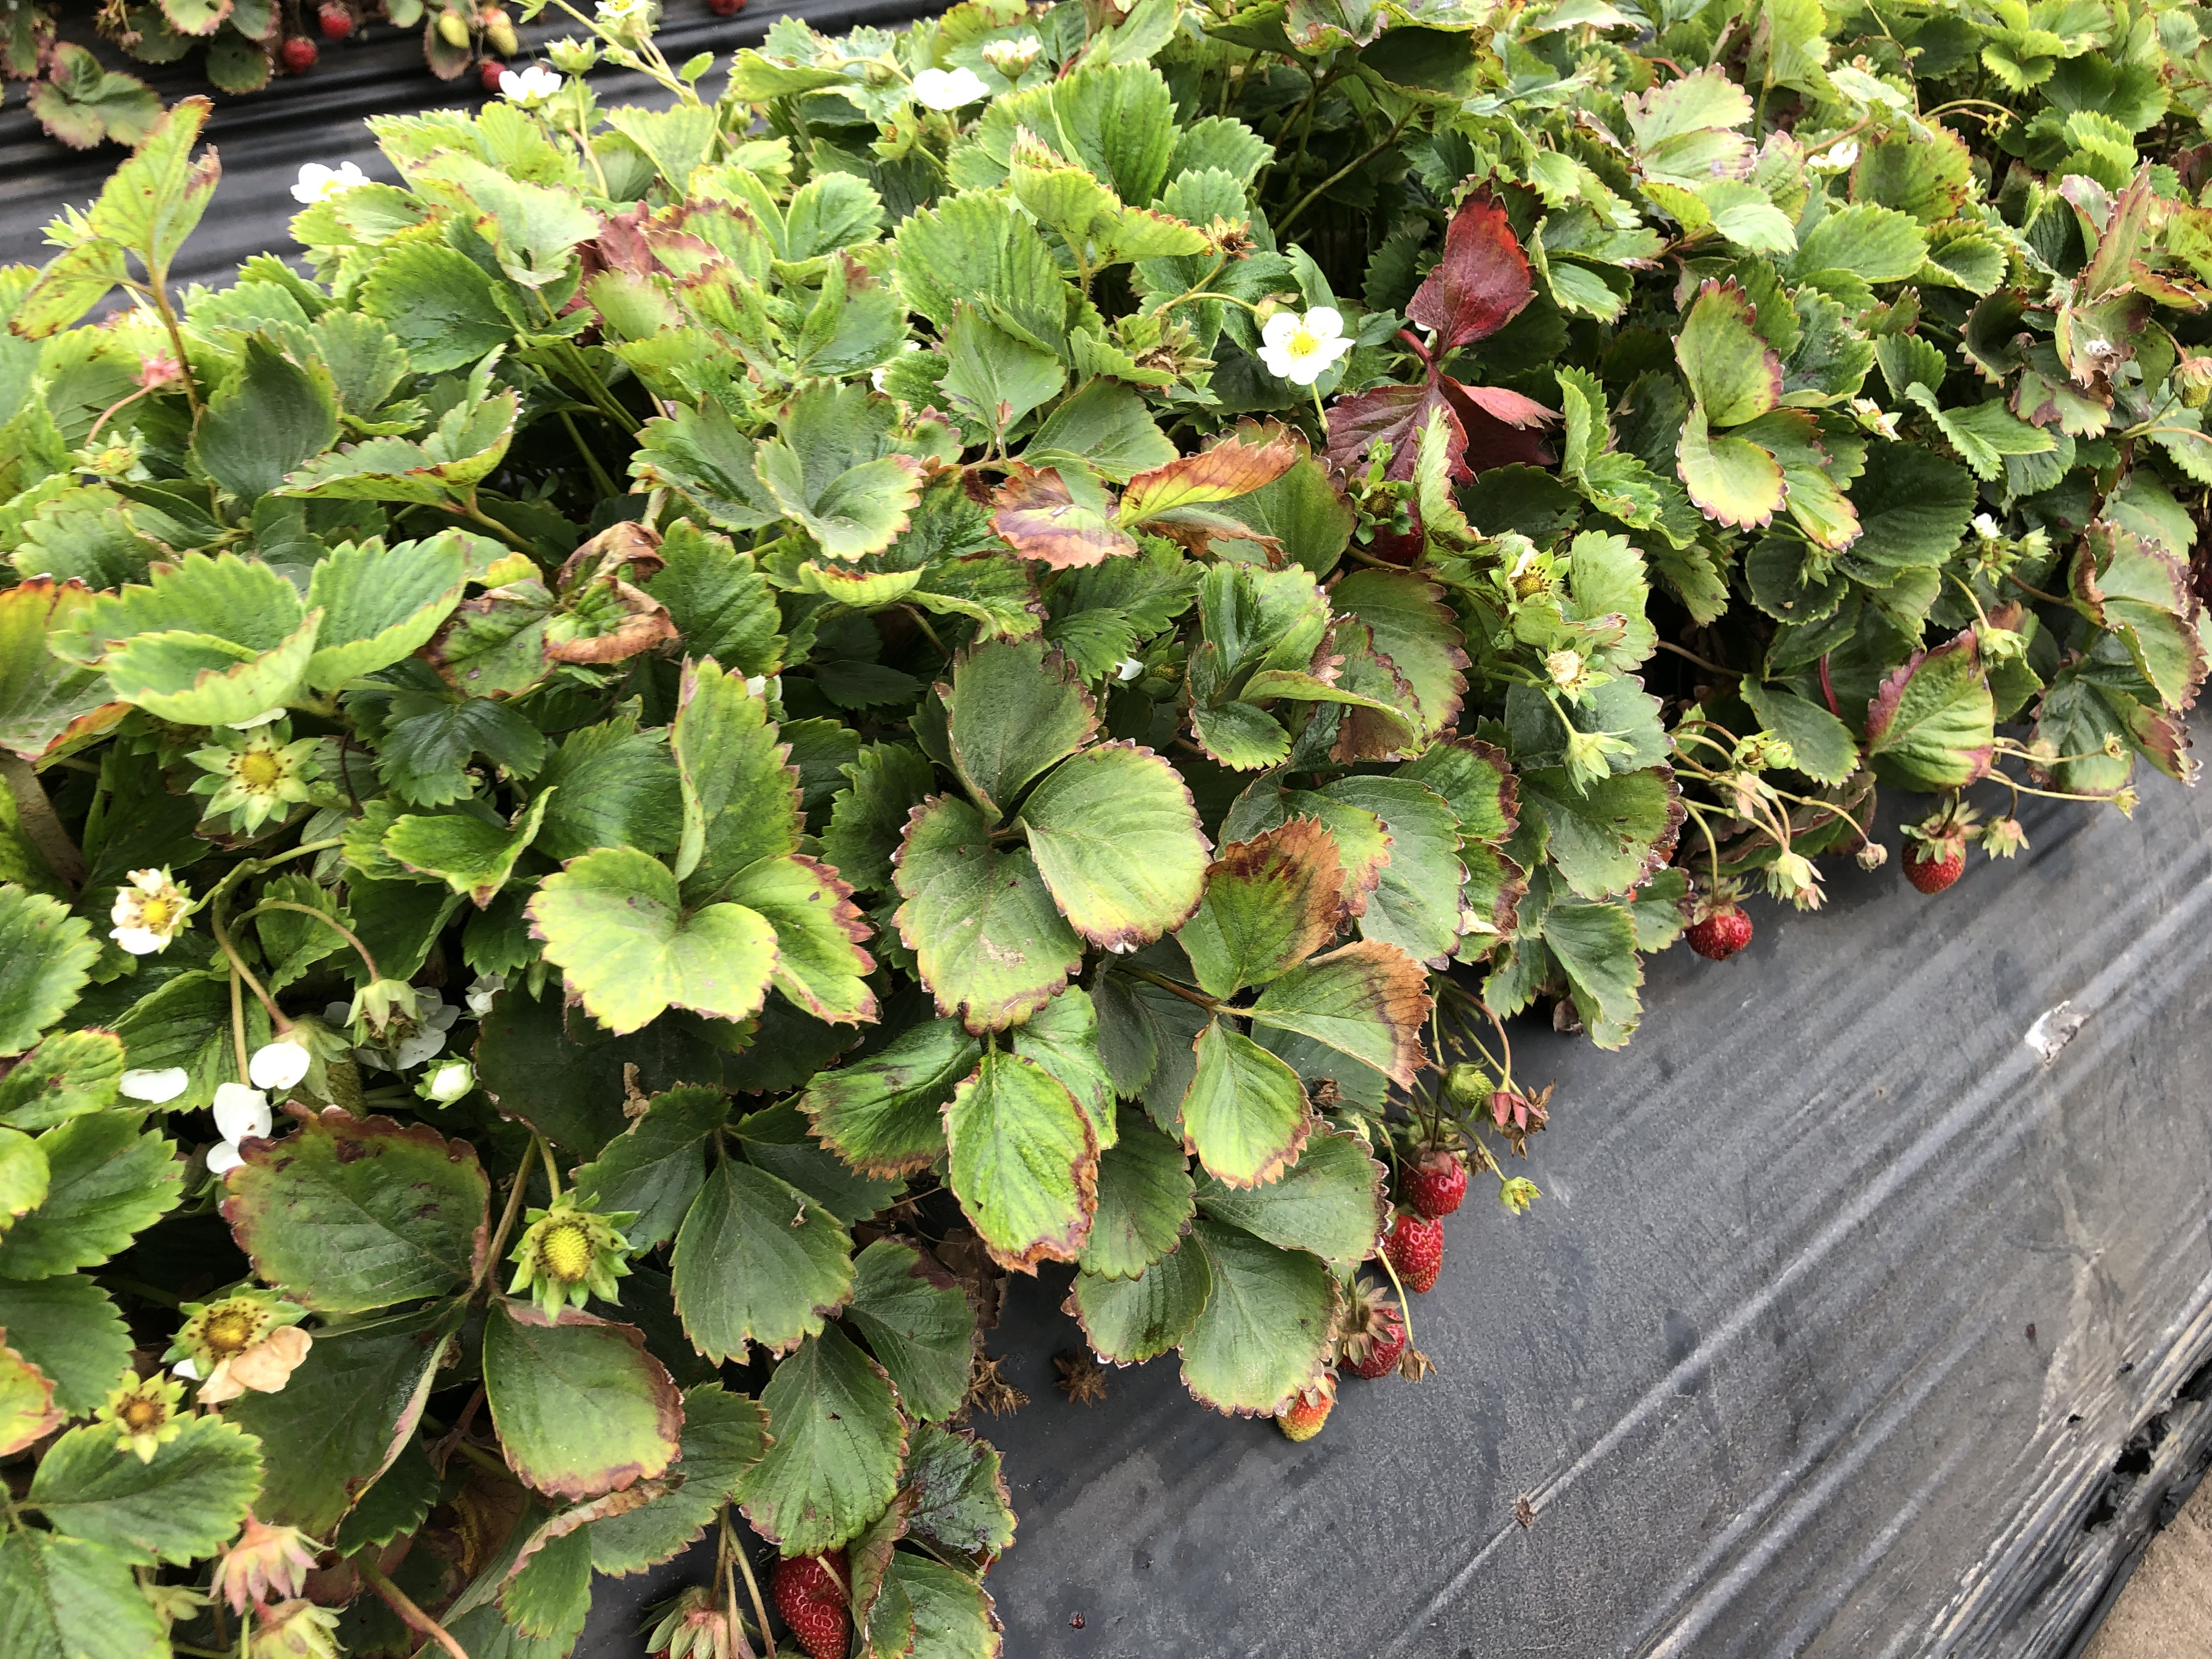ripe_strawberry: (770, 1547, 852, 1659), (1393, 1136, 1470, 1223), (1376, 1201, 1447, 1293), (1898, 819, 1968, 903), (1339, 1302, 1409, 1384), (1679, 894, 1749, 962)
unripe_strawberry: (1271, 1364, 1338, 1446), (542, 1213, 590, 1293)
